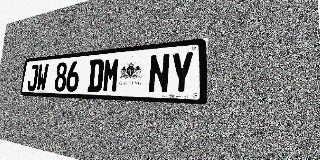6: (65, 61, 81, 92)
8: (54, 62, 68, 91)
D: (87, 59, 104, 92)
J: (27, 64, 39, 91)
M: (102, 57, 120, 93)
N: (148, 53, 170, 94)
W: (36, 64, 49, 91)
Y: (169, 51, 194, 94)
